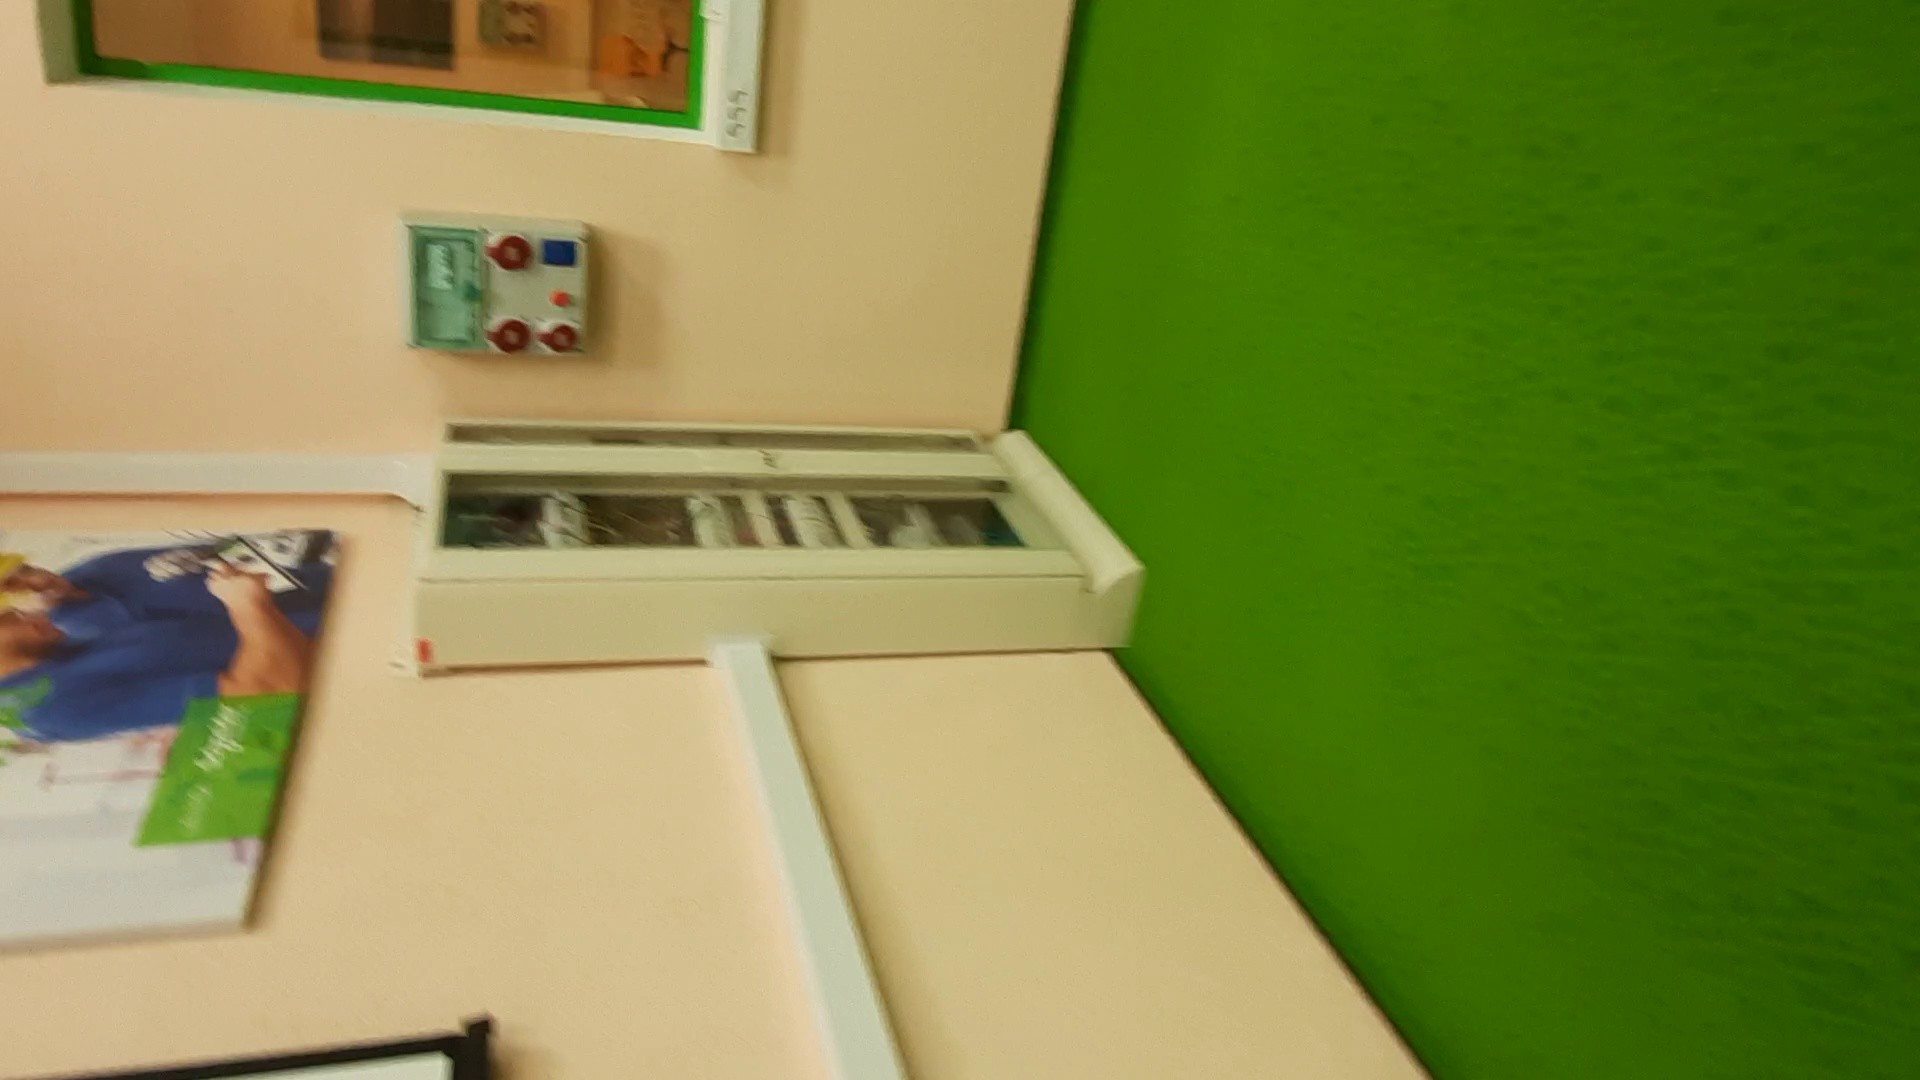stand1: (410, 407, 1149, 680)
